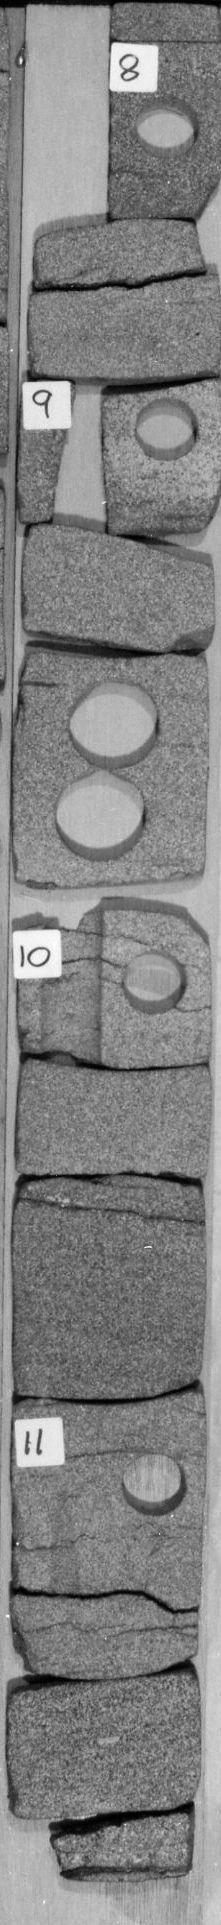hplug: (117, 1447, 191, 1519), (119, 949, 189, 1021), (135, 397, 201, 463), (133, 97, 201, 161)
scal: (51, 767, 157, 867), (63, 679, 165, 769)
vplug: (31, 913, 109, 1071), (52, 374, 113, 538), (31, 1489, 88, 1598)
